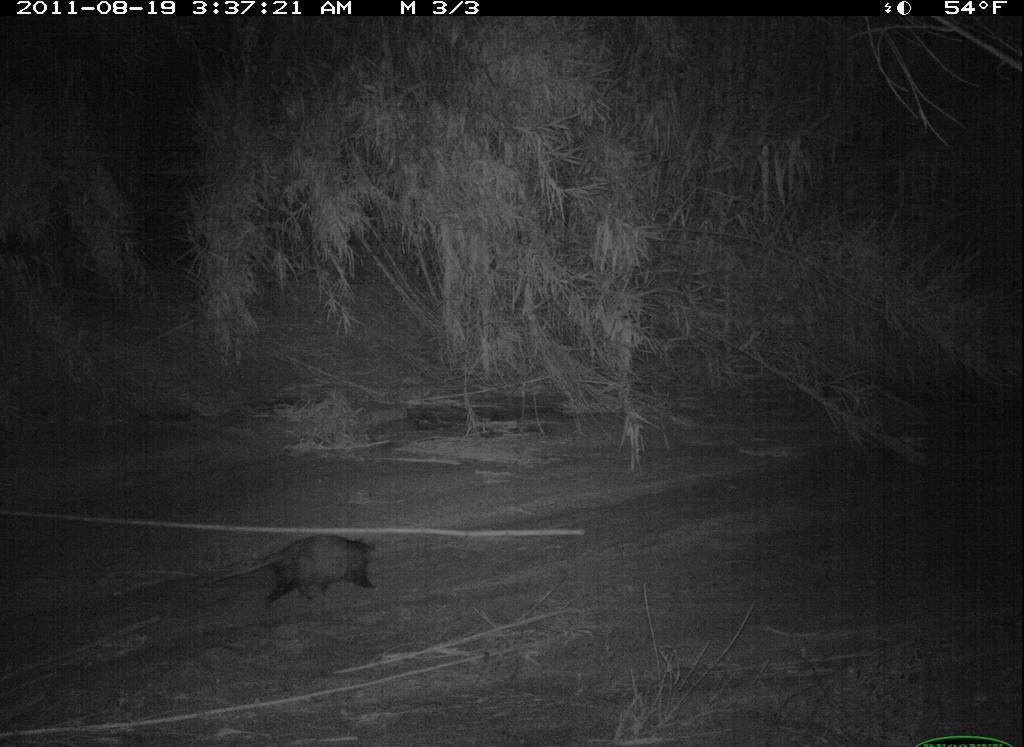opossum: (214, 530, 388, 615)
